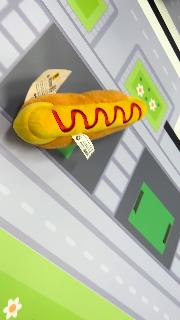hotdog: (12, 90, 148, 150)
